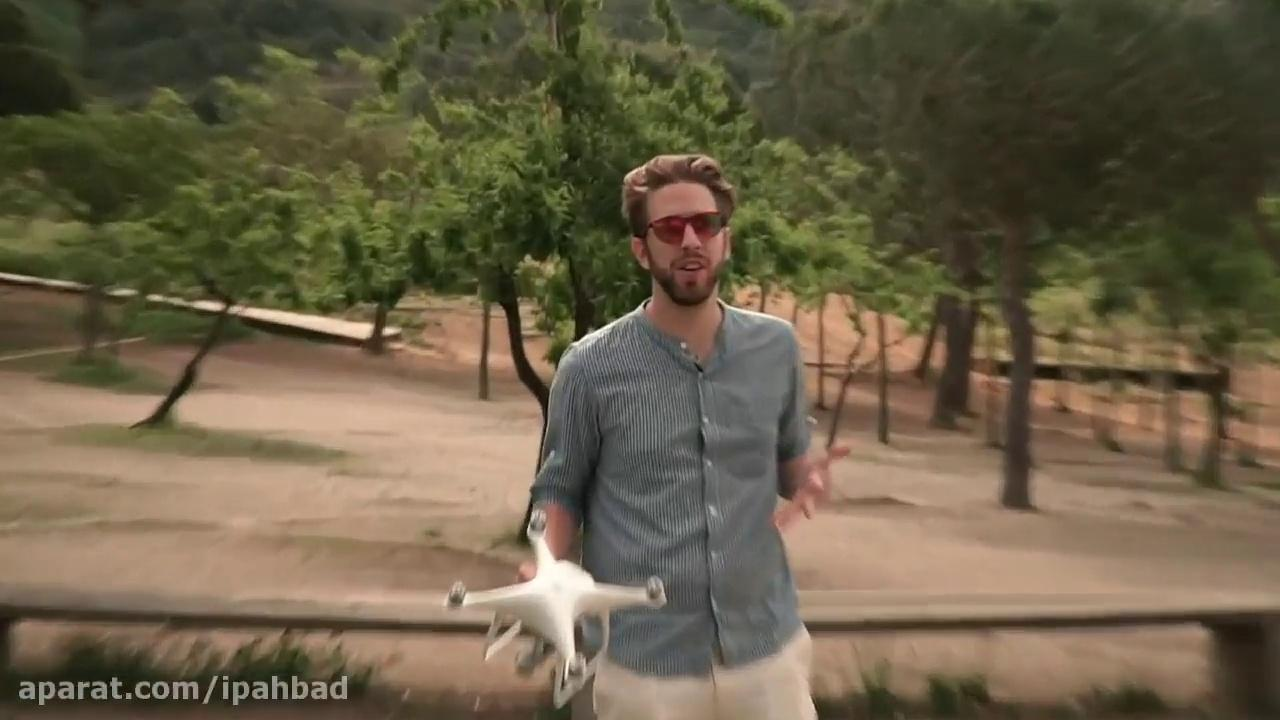drone: (439, 505, 669, 707)
